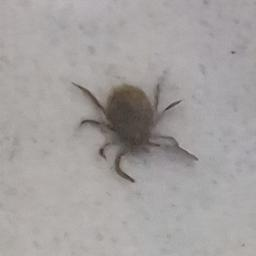Ixodes scapularis: (71, 67, 198, 183)
